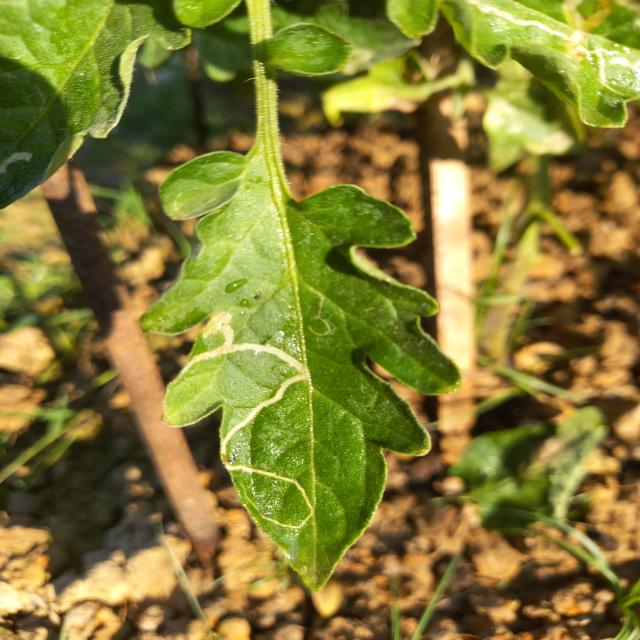Tuta absoluta: (152, 308, 377, 515)
